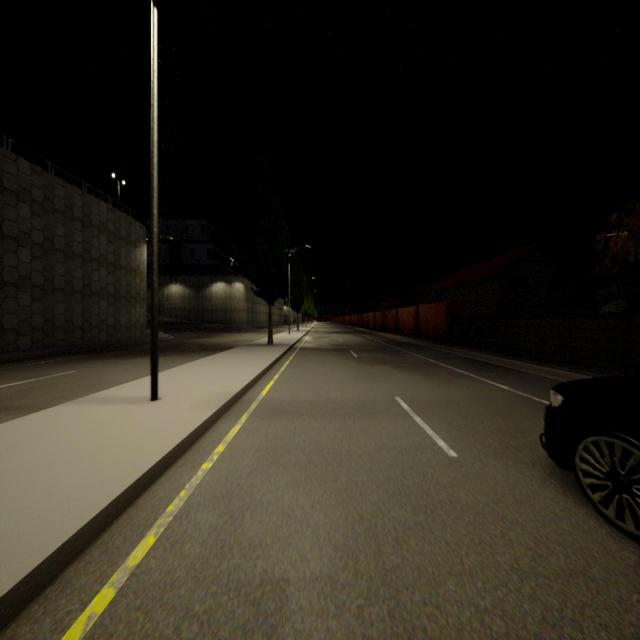Vehicle: (540, 376, 640, 540)
